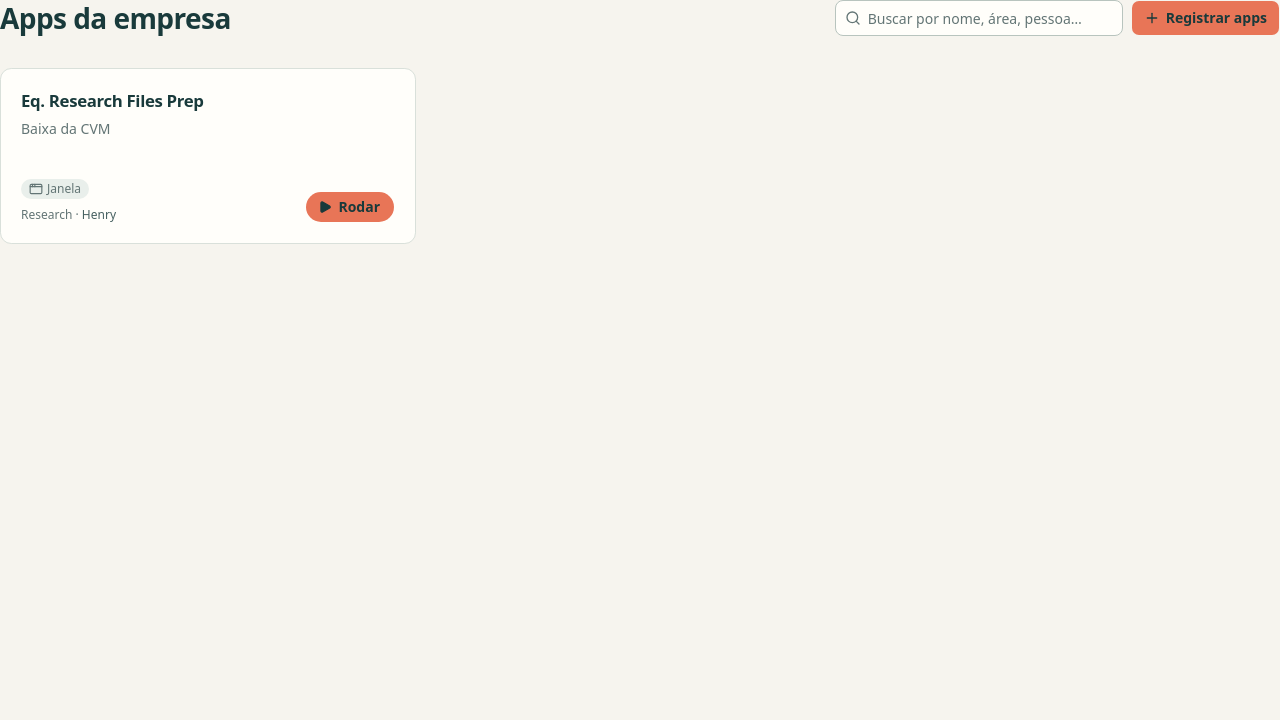
Scenario: the run window has Cancelar
Click the button with aria-label "Rodar Eq. Research Files Prep". click: (350, 207)
box: [305,191,395,223]
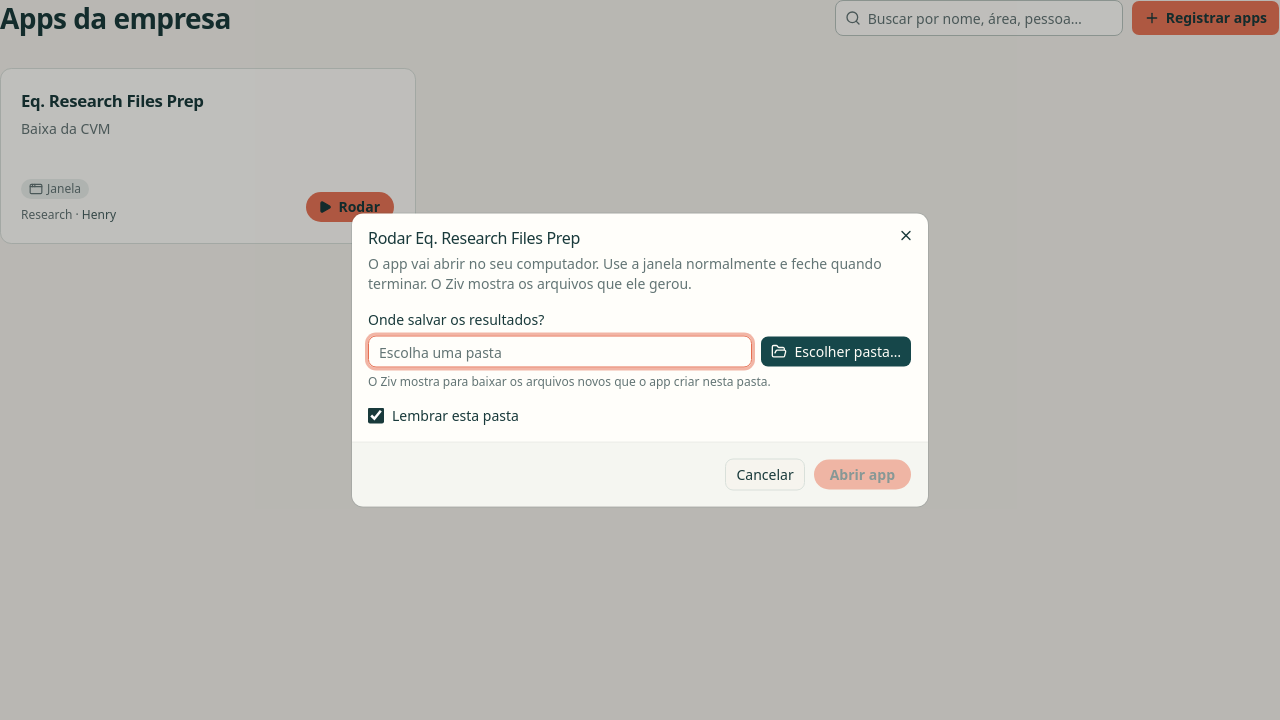
Click the button "Cancelar". click: (765, 474)
box: [726,458,805,490]
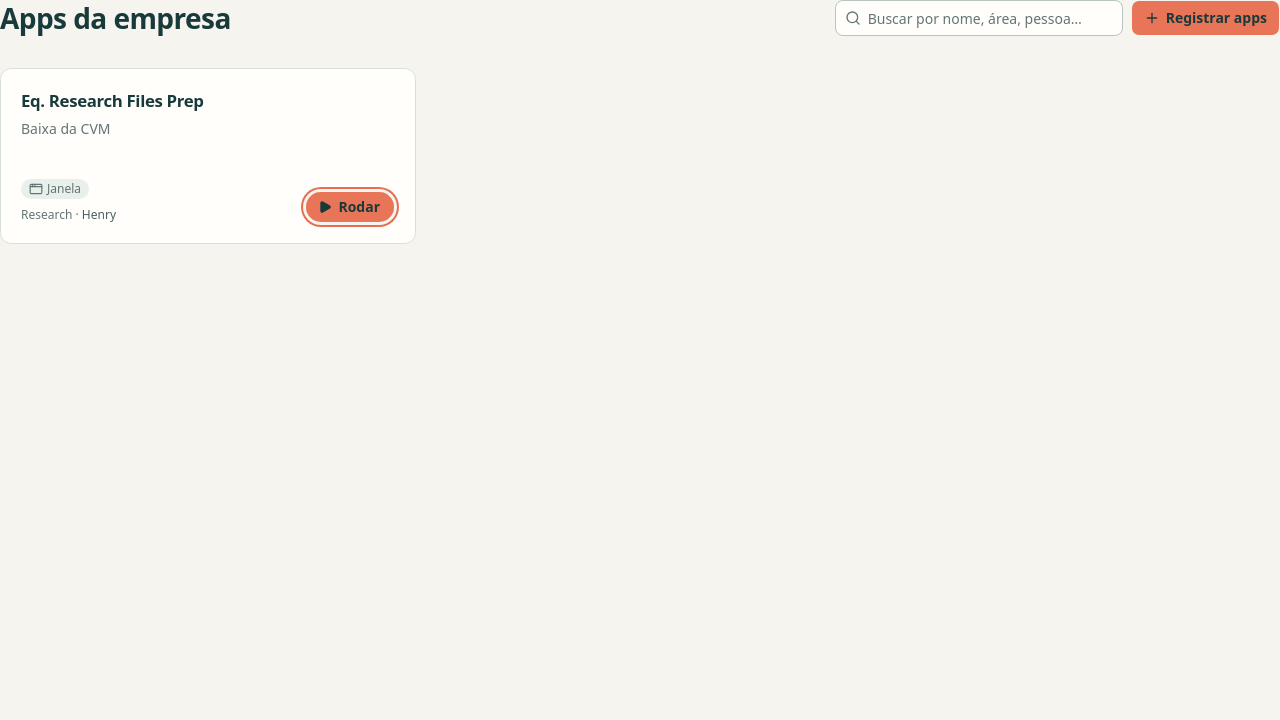
Now the label labelled "Onde salvar os resultados?" is gone
